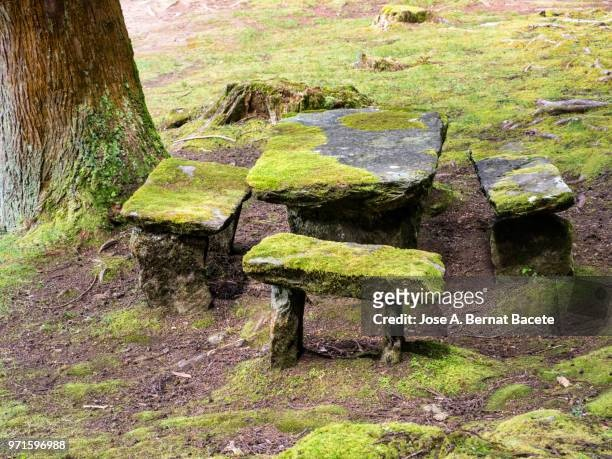obstacle: (243, 108, 445, 367), (121, 158, 250, 312)
